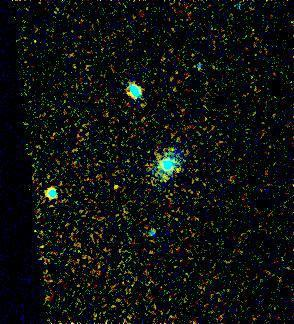star: (106, 177, 136, 207)
